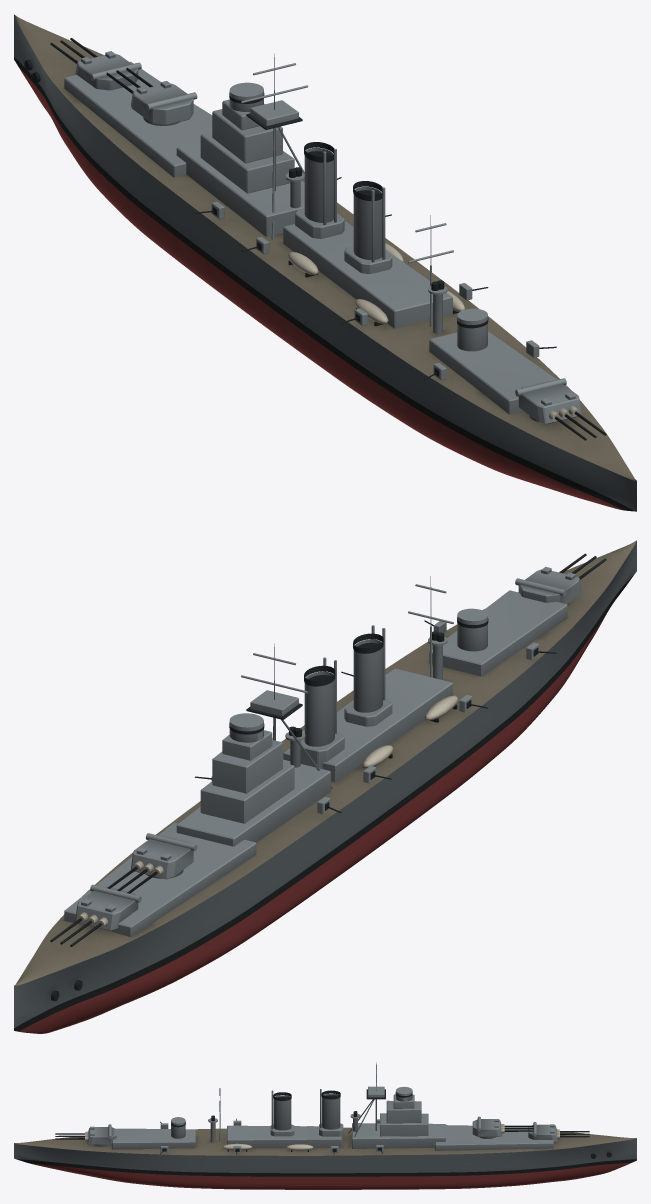
File: uss-san-francisco.glb
3 renders of one model, top to bottom at view 1: azimuth 30°, elevation 25°; view 2: azimuth 150°, elevation 25°; view 3: azimuth 270°, elevation 25°, orthographic. The views are drawn at different scales.
Parts seen in each view (by area): view 1: uss-san-francisco; view 2: uss-san-francisco; view 3: uss-san-francisco.
Part boxes in pixels (box(x1,y1,x2,y2)): uss-san-francisco: box(14, 14, 636, 511); uss-san-francisco: box(14, 540, 636, 1033); uss-san-francisco: box(14, 1062, 636, 1189).
Size of the model in its own units: 24.79 by 37.42 by 179.
